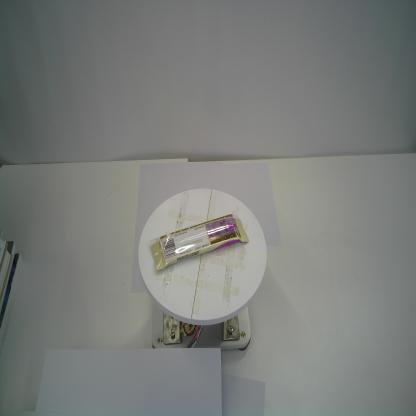Chocolate: (147, 210, 249, 272)
